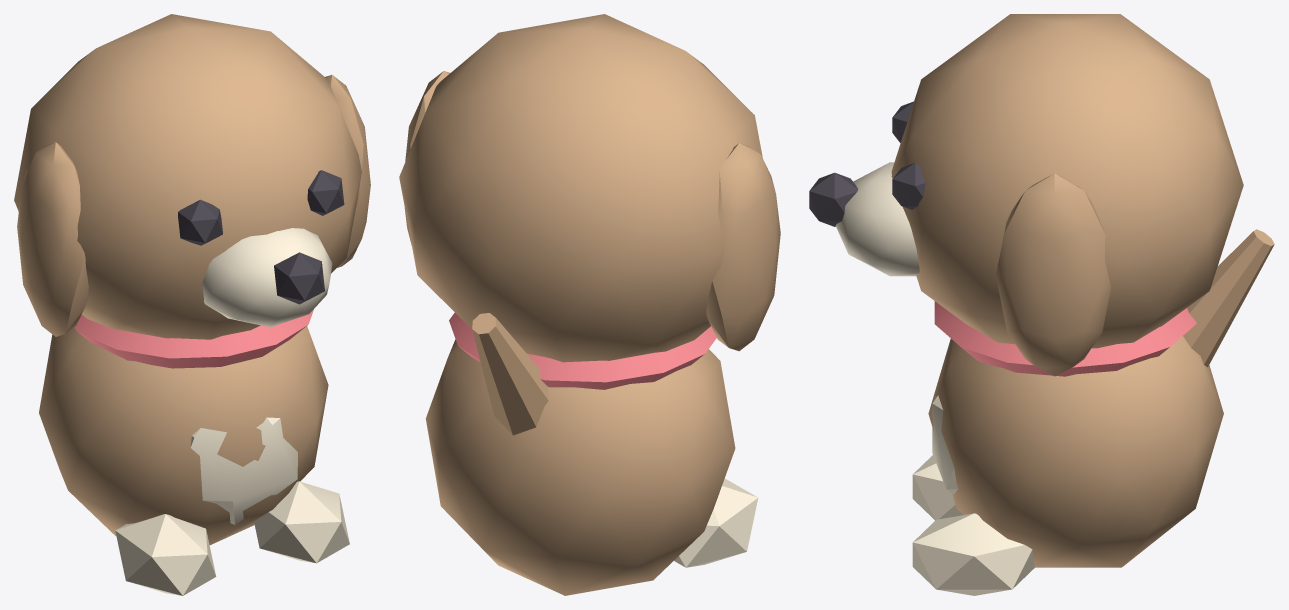
The model's file is pet_dog.glb.
3 views of the same model, side by side, from view 1: azimuth 30°, elevation 25°; view 2: azimuth 150°, elevation 25°; view 3: azimuth 270°, elevation 25° (orthographic). The views are drawn at different scales.
Visible parts, largest first — view 1: pet_dog; view 2: pet_dog; view 3: pet_dog.
Part boxes in pixels (x1=…): pet_dog: x1=14, y1=14, x2=370, y2=595; pet_dog: x1=399, y1=14, x2=780, y2=595; pet_dog: x1=809, y1=14, x2=1274, y2=595.
Size of the model in its own units: 0.3675 by 0.5537 by 0.4339.
